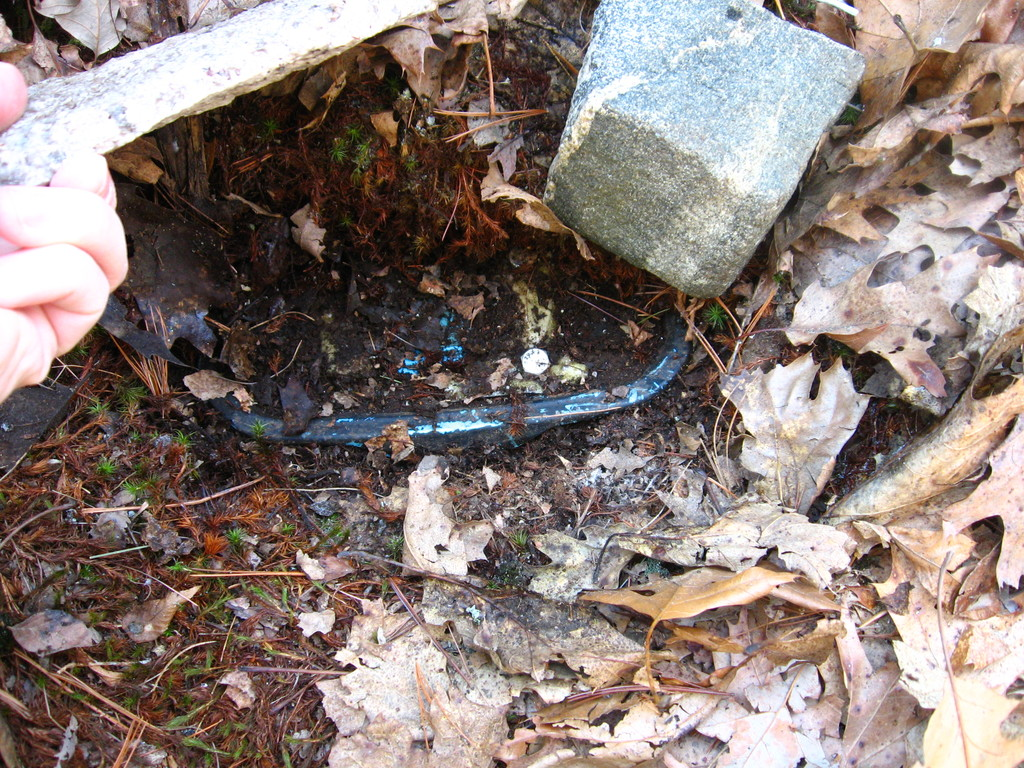person: (0, 62, 128, 467)
